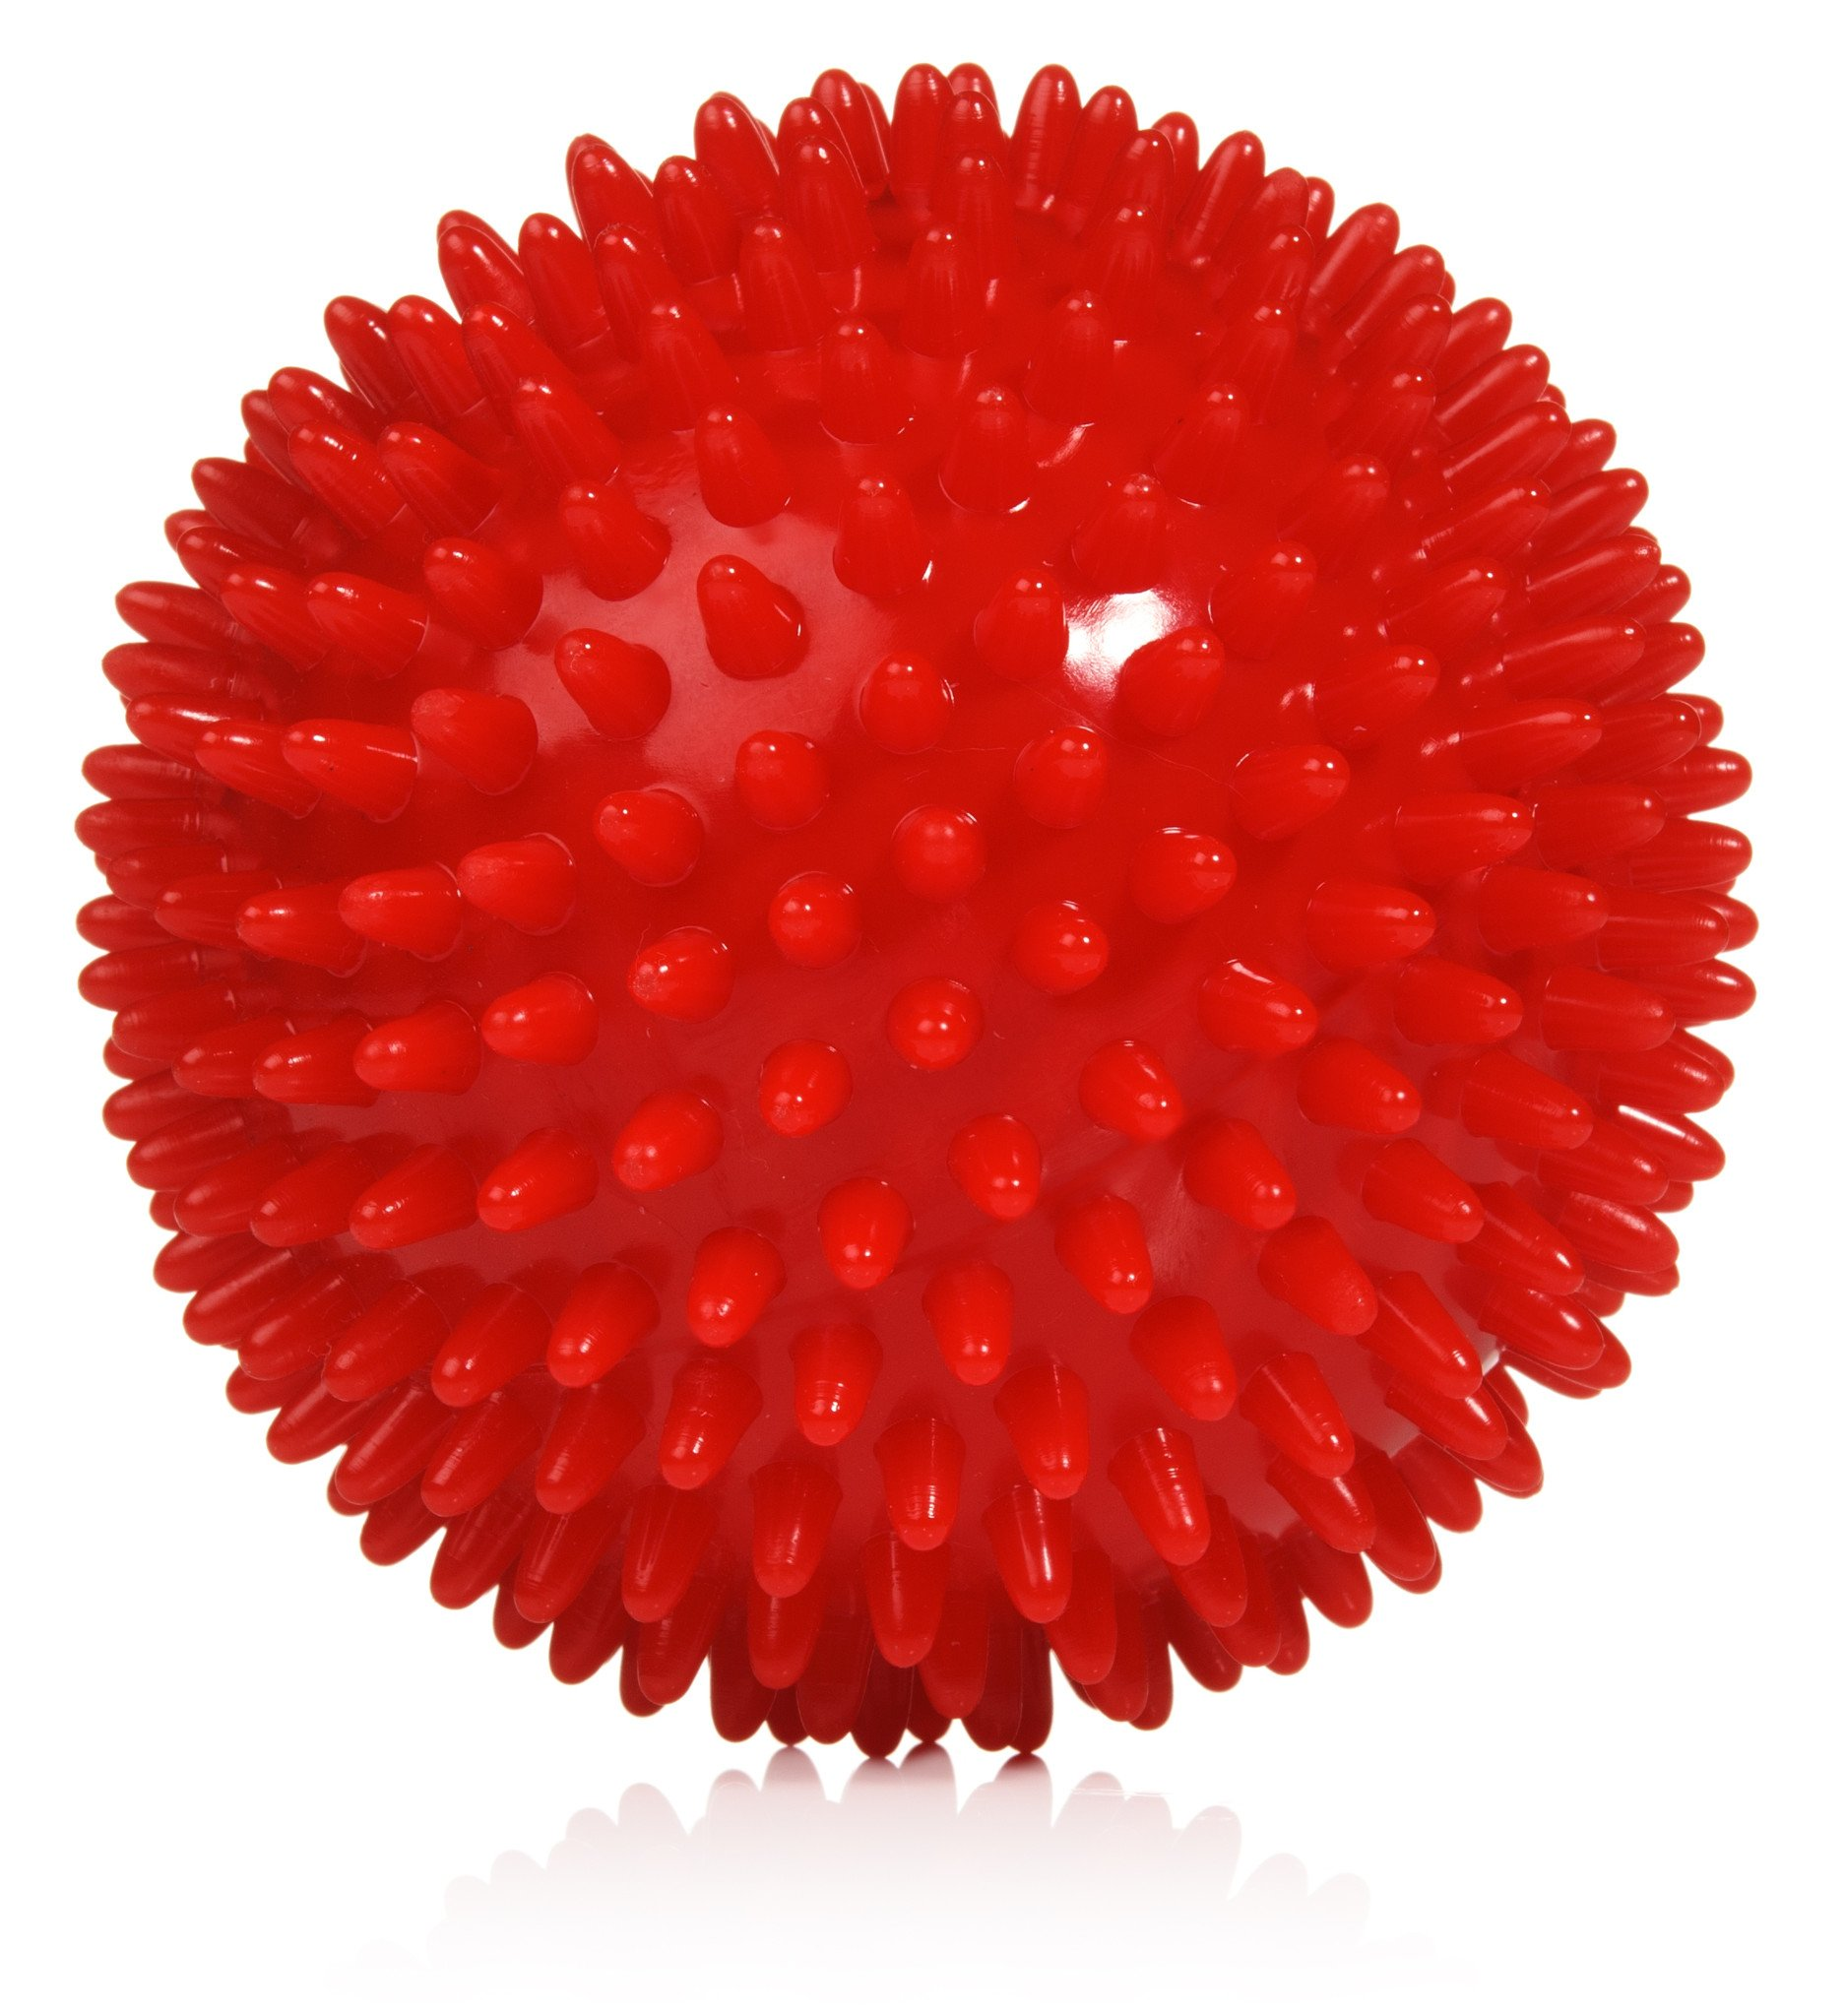red ball: (67, 63, 1770, 1772)
